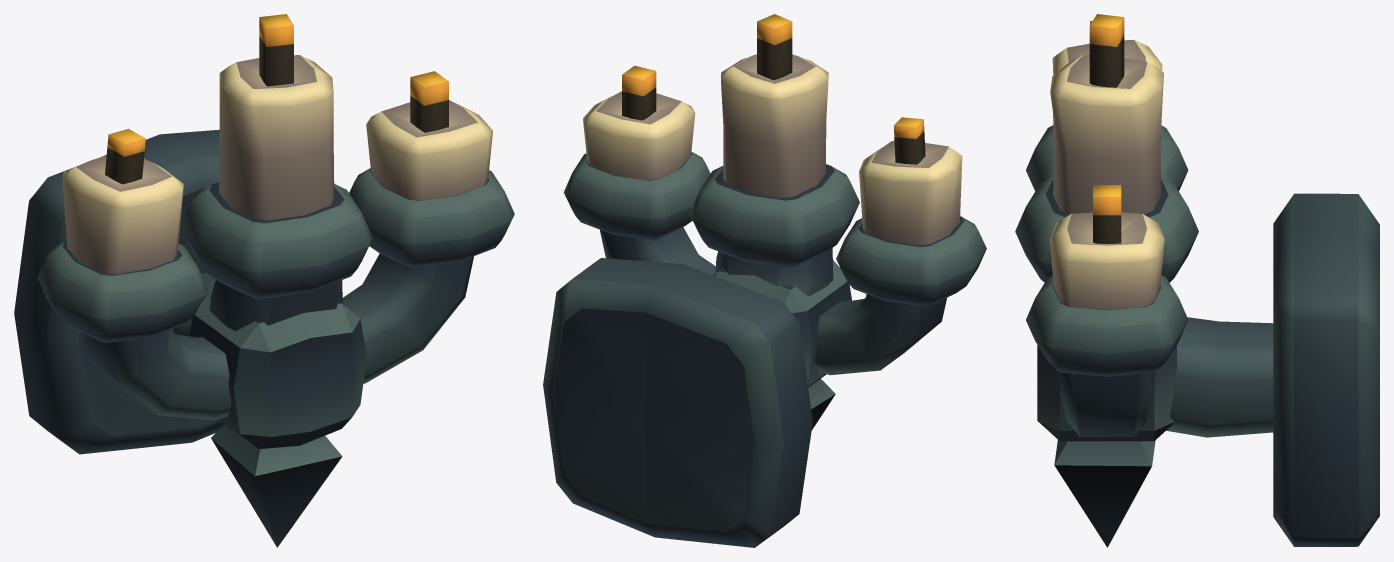
File: candelabra_wall.fbx
3 views of the same model, side by side, from view 1: azimuth 30°, elevation 25°; view 2: azimuth 150°, elevation 25°; view 3: azimuth 270°, elevation 25° (orthographic). The views are drawn at different scales.
Parts seen in each view (by area): view 1: candelabra_wall; view 2: candelabra_wall; view 3: candelabra_wall.
Part boxes in pixels (x1,y1,x2,y2): candelabra_wall: [14, 14, 514, 547]; candelabra_wall: [543, 14, 986, 547]; candelabra_wall: [1015, 14, 1379, 547].
Bounding box in the file's own units: 103 × 116 × 72.58.
